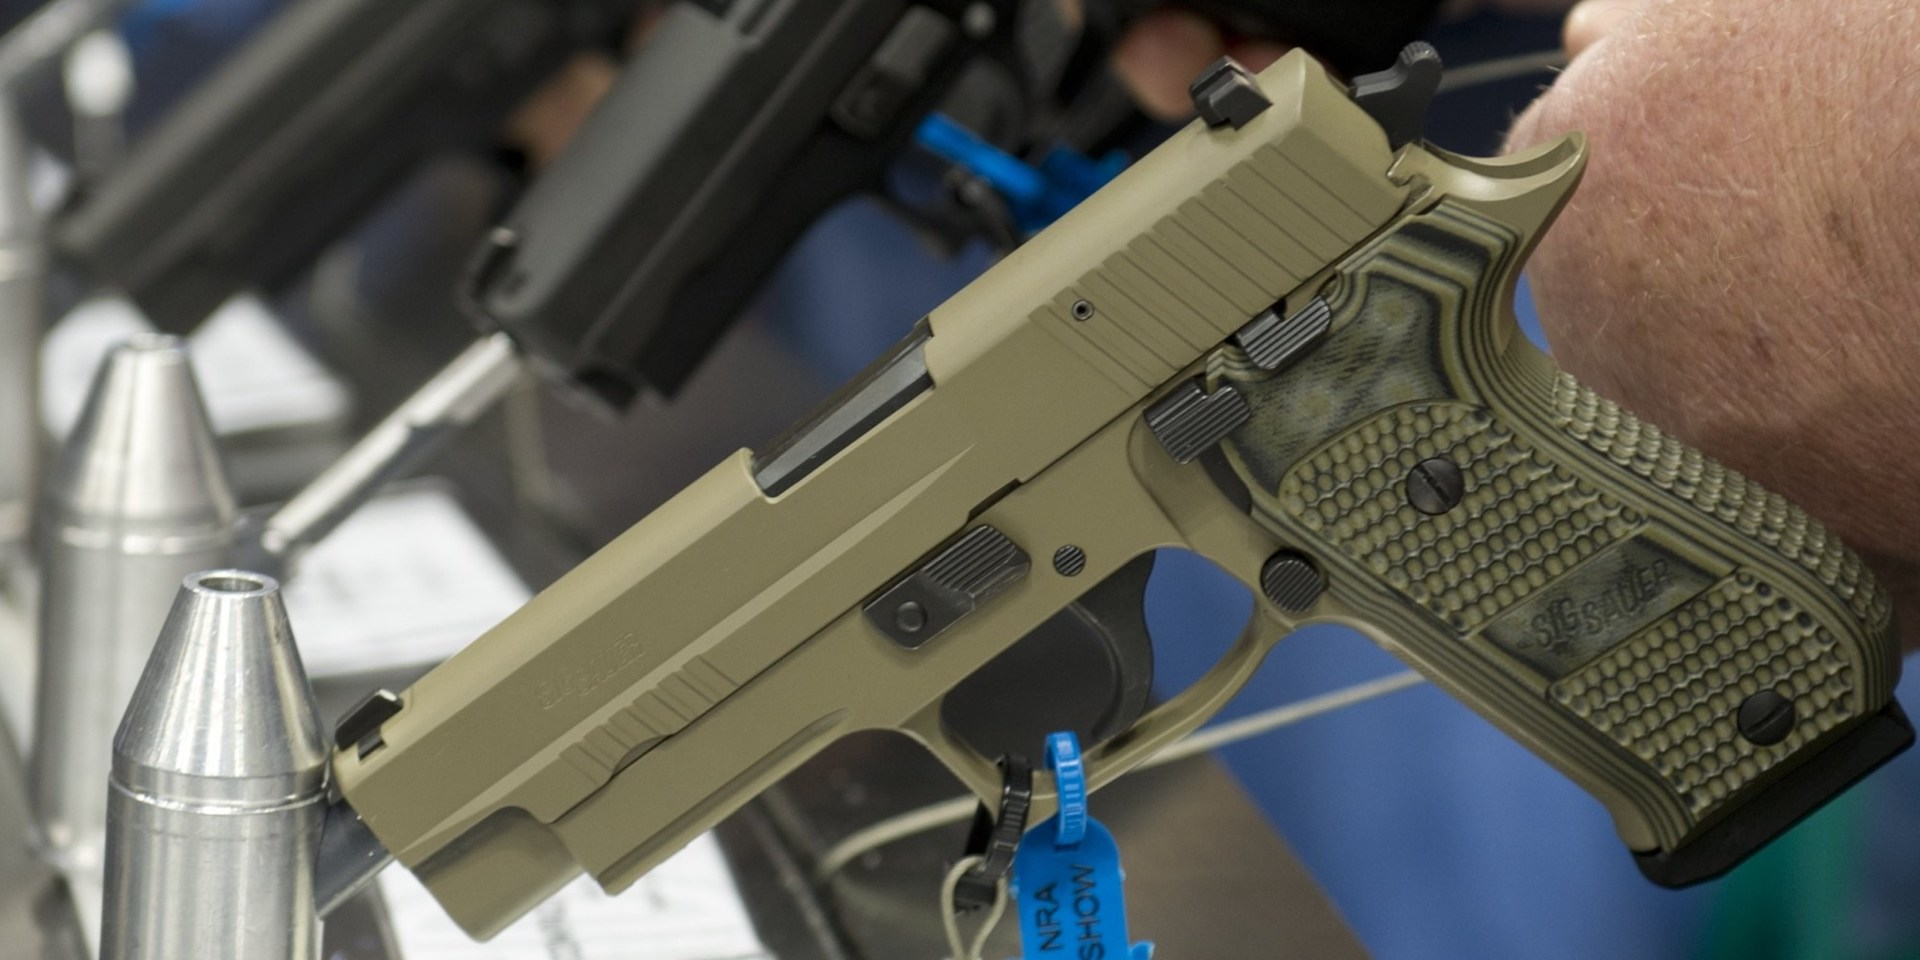pistol: (337, 42, 1918, 945)
